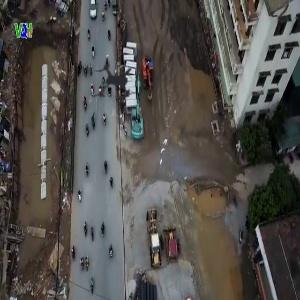drone: (69, 34, 163, 128)
